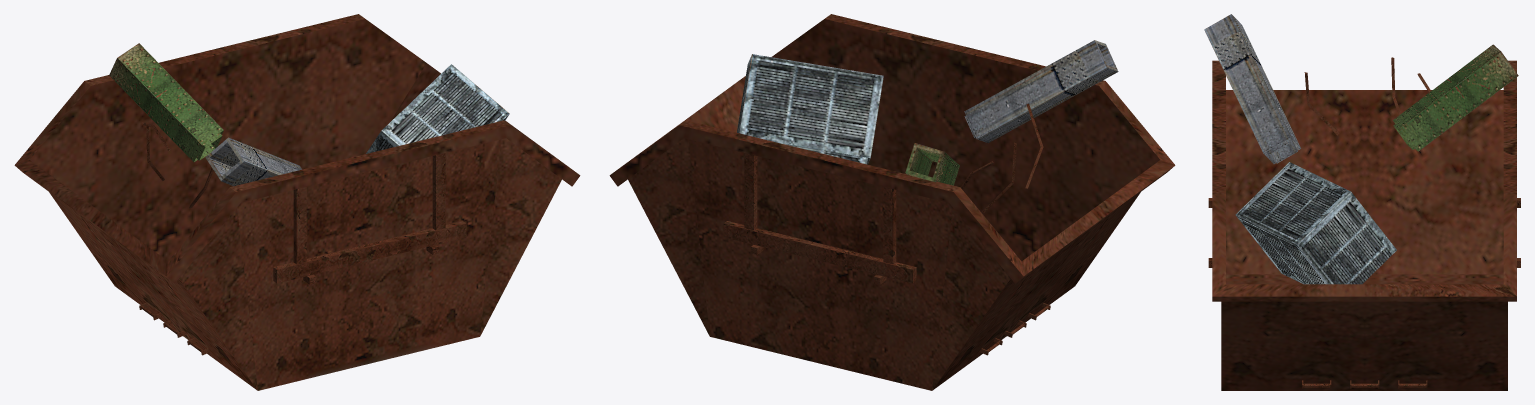
The model's file is GarbageContainer.fbx.
The picture shows the model from 3 angles, left to right: view 1: azimuth 30°, elevation 25°; view 2: azimuth 150°, elevation 25°; view 3: azimuth 270°, elevation 25°; orthographic projection.
Parts seen in each view (by area): view 1: metal.018_metal.012; view 2: metal.018_metal.012; view 3: metal.018_metal.012.
Boxes of the visible parts, left/top/right/bottom form: metal.018_metal.012: left=14, top=14, right=580, bottom=390; metal.018_metal.012: left=609, top=14, right=1175, bottom=390; metal.018_metal.012: left=1204, top=14, right=1520, bottom=390.
Bounding box in the file's own units: 328 × 193 × 217.
1 material, 1 textured.
